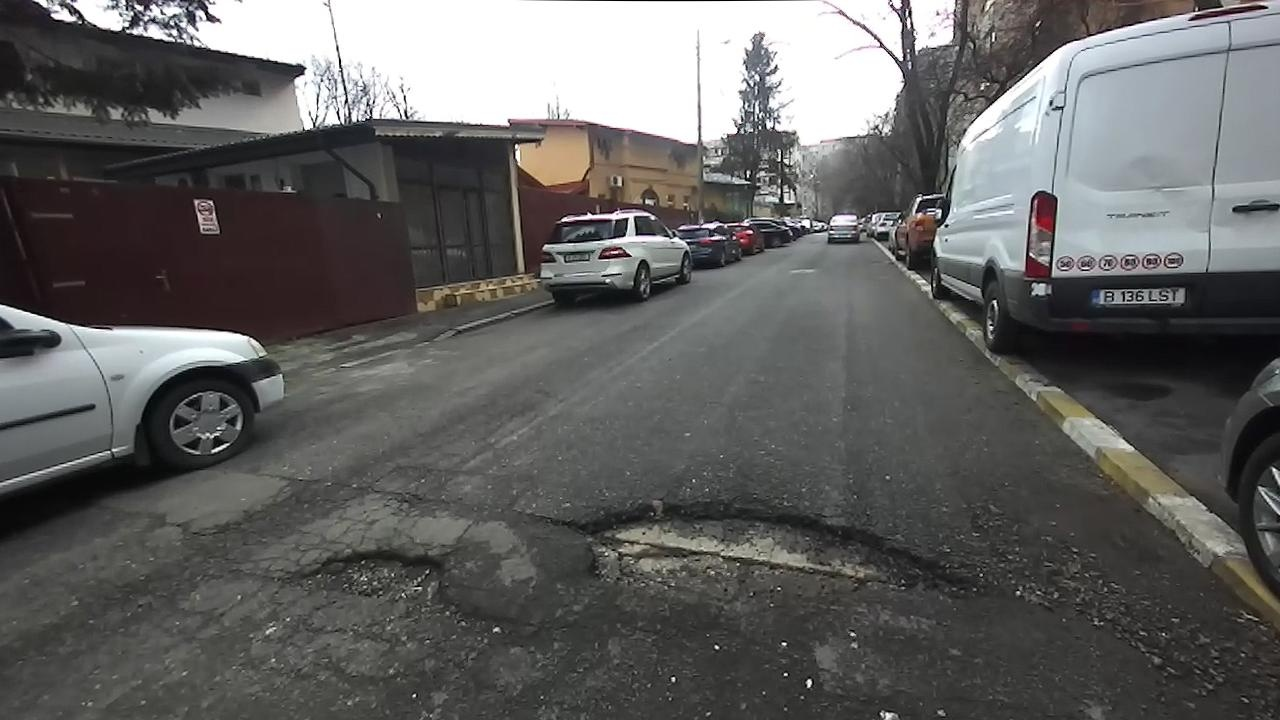pothole: (554, 493, 996, 626), (286, 540, 495, 628)
